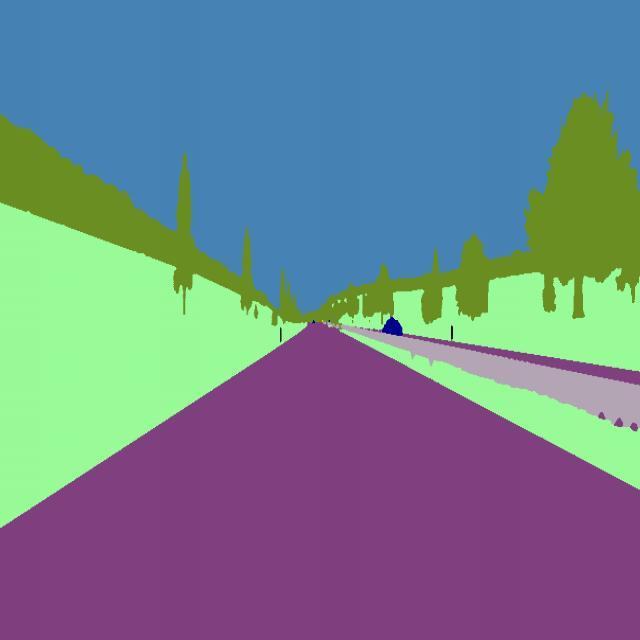safe: (379, 316, 405, 340)
